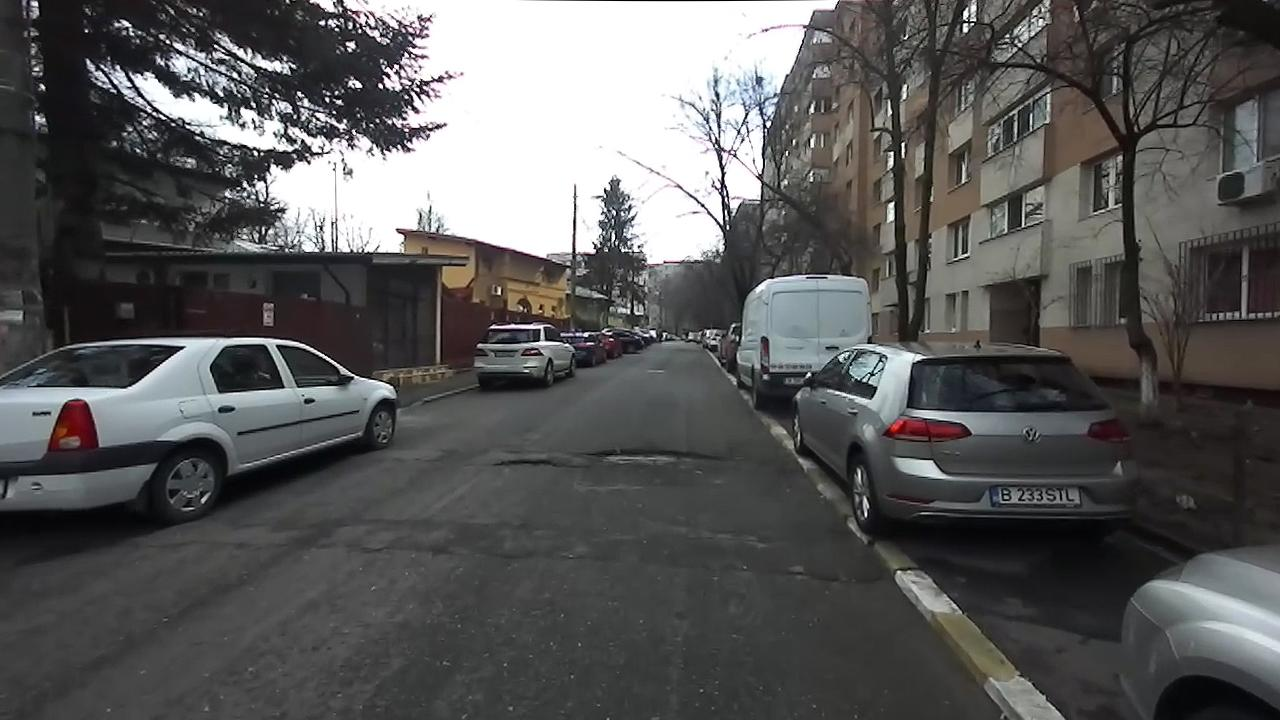pothole: (584, 442, 725, 466), (780, 566, 881, 590), (490, 456, 571, 470)
